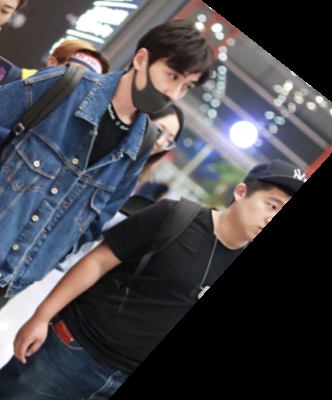mask_weared_incorrect: (126, 24, 227, 120)
